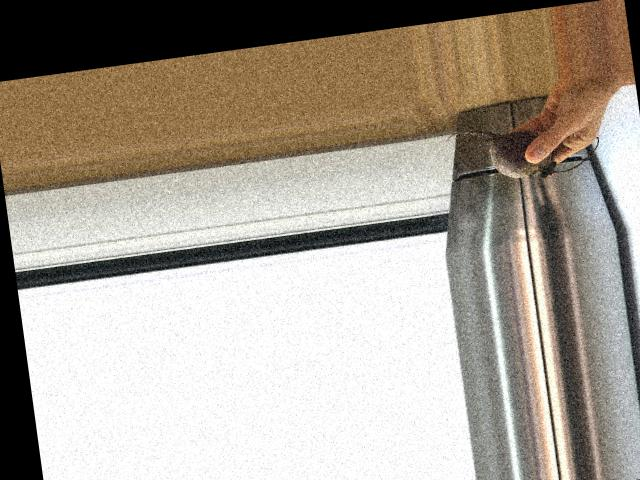beet: (443, 113, 602, 190)
